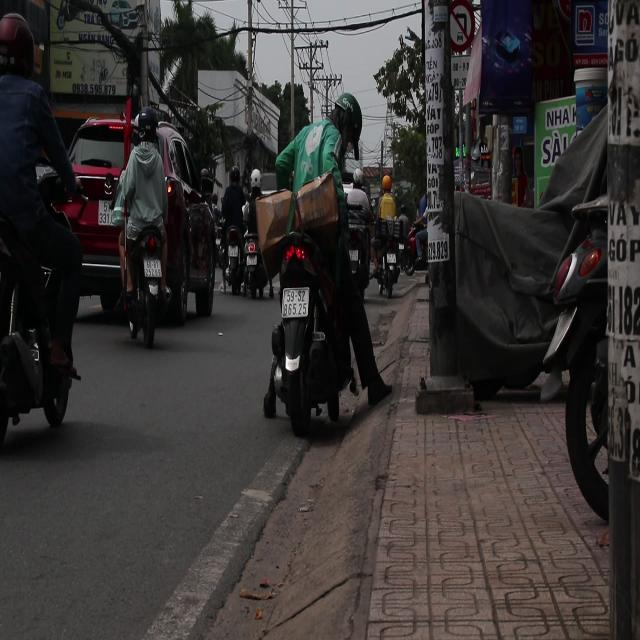car: (58, 104, 228, 333)
motorbike: (0, 138, 80, 457), (271, 227, 349, 447), (120, 206, 166, 356), (219, 215, 241, 306), (375, 224, 399, 307), (244, 228, 267, 312), (407, 224, 434, 283), (348, 226, 371, 290)
